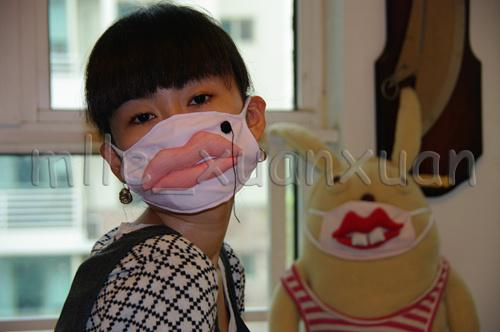OK: (116, 79, 247, 210)
